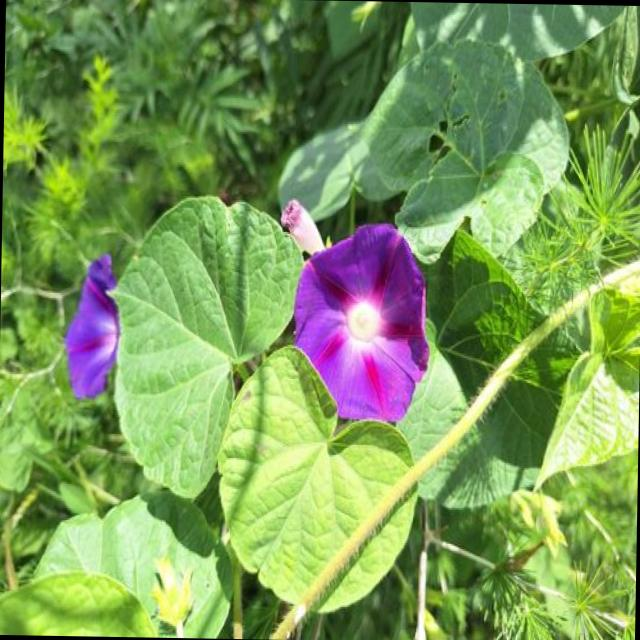ipomoea: (288, 218, 436, 428), (60, 248, 127, 406)
